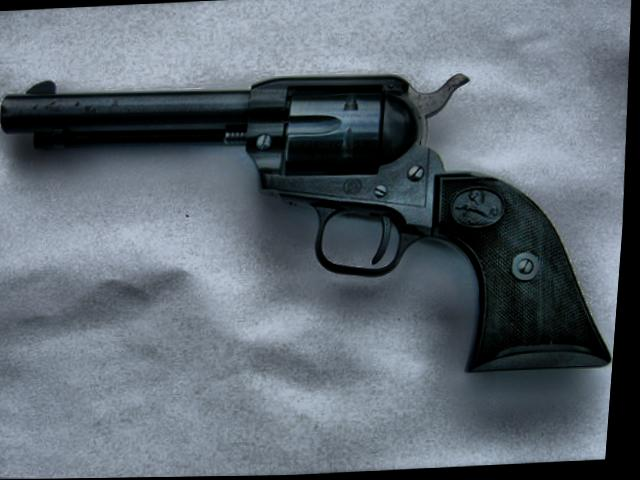pistol: (0, 51, 634, 401)
